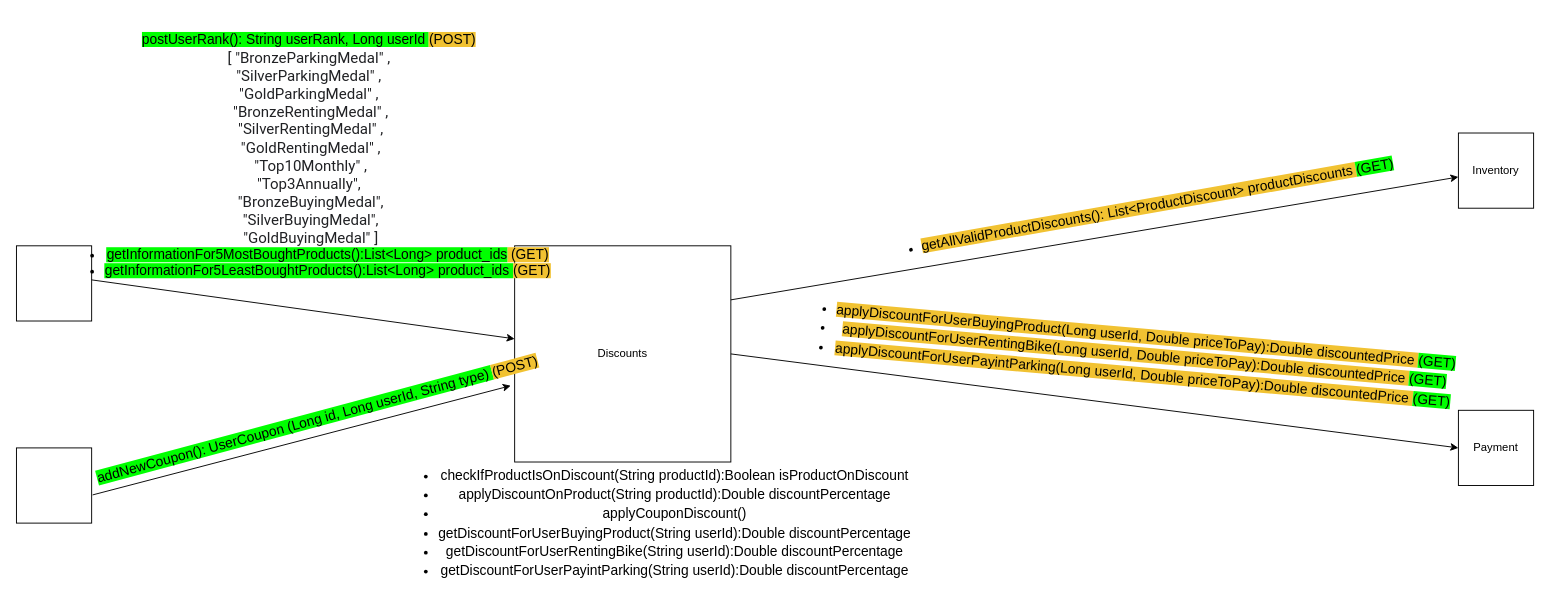
This 1550x601 diagram has some shape labels left out. The shapes that lost their labels are listed below. From the top down, each one's centre as x and y in pixels, then its label:
At (x=54, y=283): "Statistics".
At (x=54, y=485): "Invoices".
